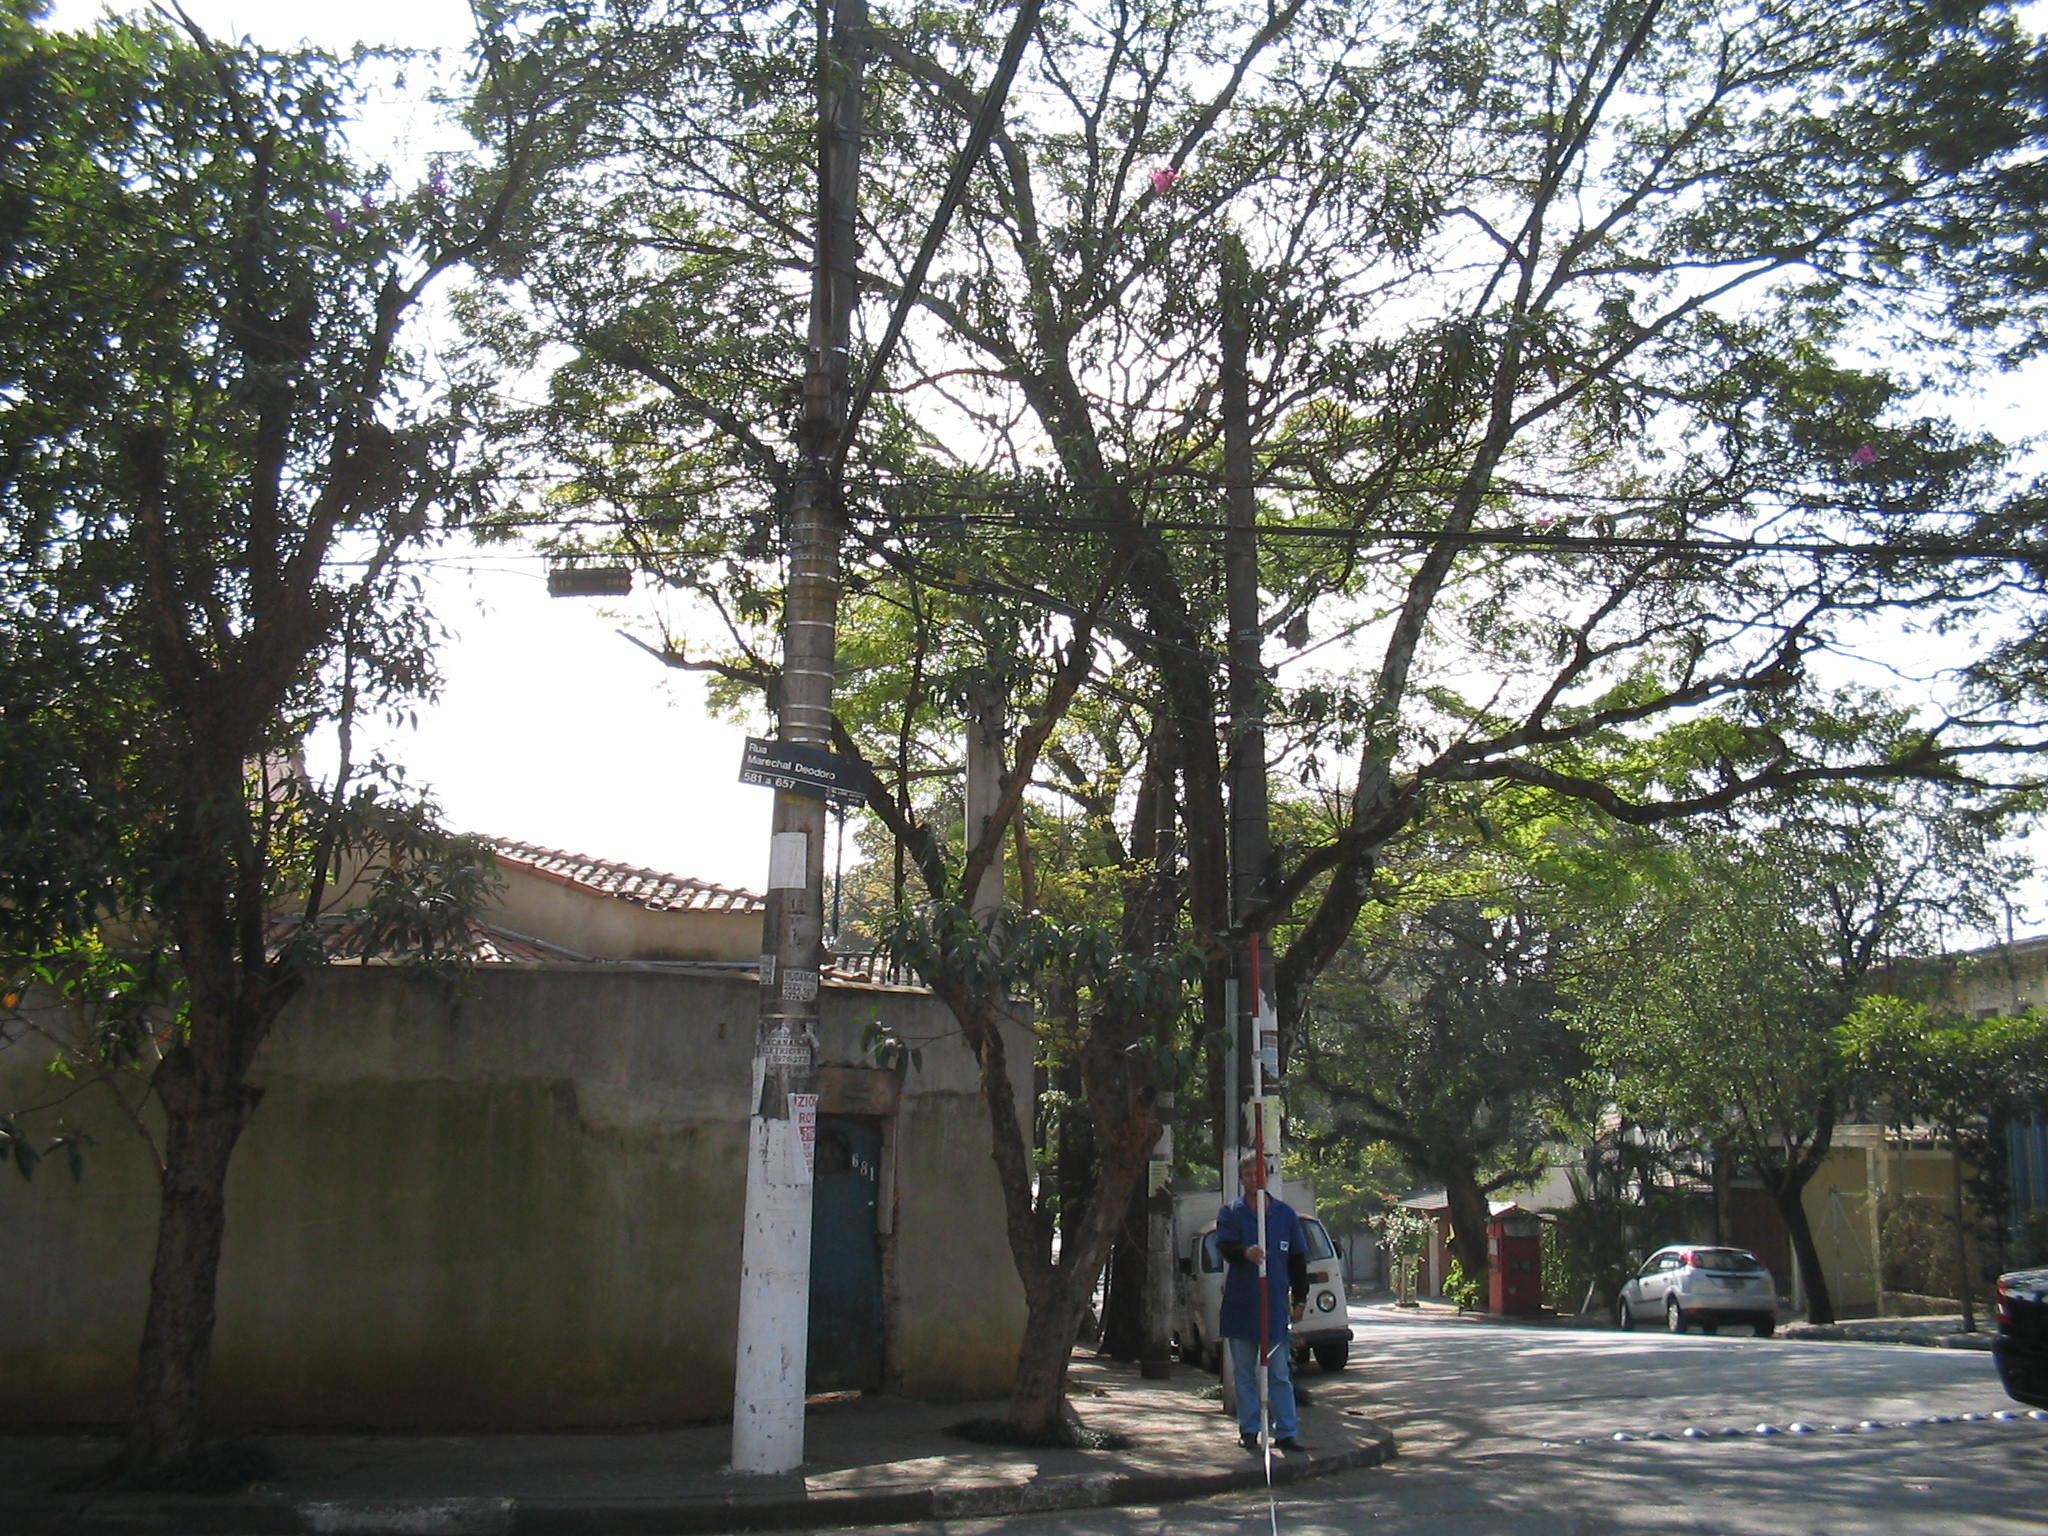crown: (485, 10, 2045, 845), (15, 6, 605, 1084), (1500, 766, 1982, 1200)
stem: (108, 1092, 261, 1484), (976, 1275, 1121, 1438), (1774, 1204, 1840, 1321)
stick: (1240, 937, 1287, 1457)
tree: (482, 3, 2045, 1439), (6, 5, 610, 1483), (1493, 763, 1987, 1326)
